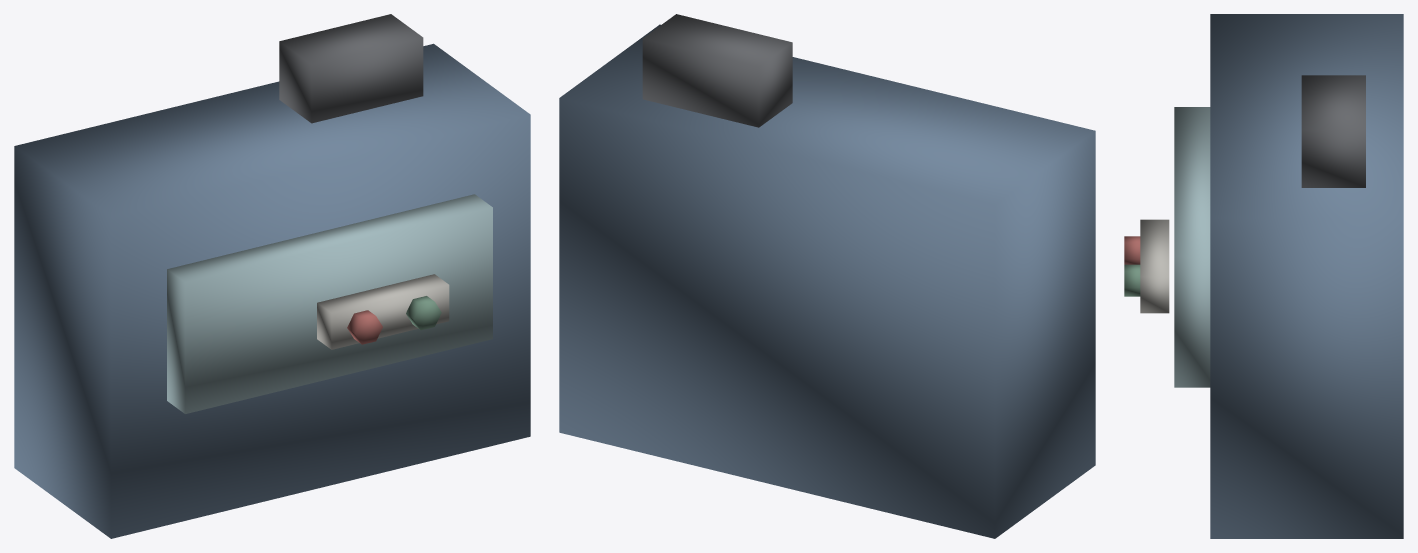
The model's file is price_checker__service.glb.
3 renders of one model, left to right at view 1: azimuth 30°, elevation 25°; view 2: azimuth 150°, elevation 25°; view 3: azimuth 270°, elevation 25°, orthographic. The views are drawn at different scales.
Visible parts, largest first — view 1: world; view 2: world; view 3: world.
Boxes of the visible parts, x1,y1,x2,y2 form: world: (14, 14, 530, 538); world: (559, 14, 1095, 538); world: (1124, 14, 1403, 538).
Size of the model in its own units: 0.3 by 0.26 by 0.1735.
